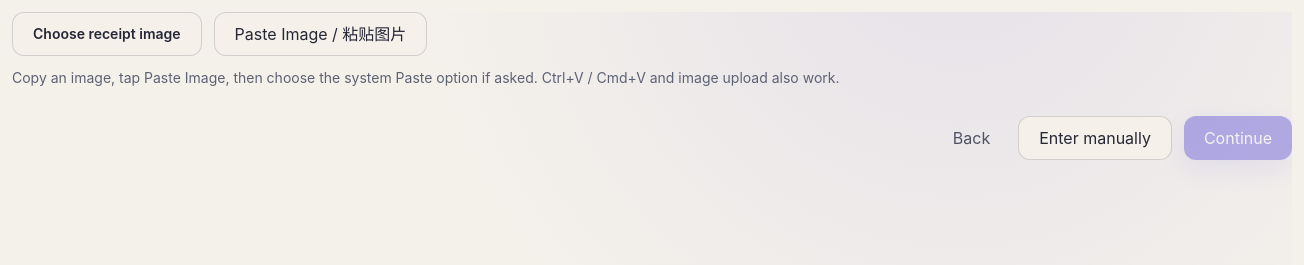
Scenario: Receipt image input › handles denied clipboard without accepting unverifiable content
The width and height of the screenshot is (1304, 265).
Click the button "Paste Image / 粘贴图片": coordinates (320, 34) [214,12,427,56]
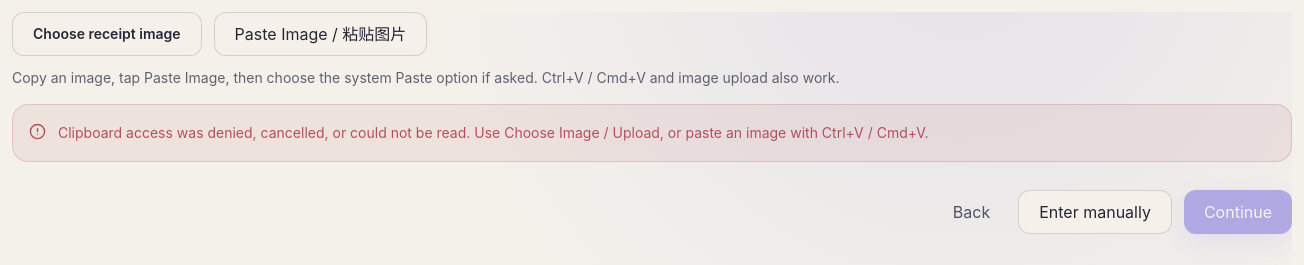
Expected: the message shows "Choose Image / Upload", [58,124,929,141]
